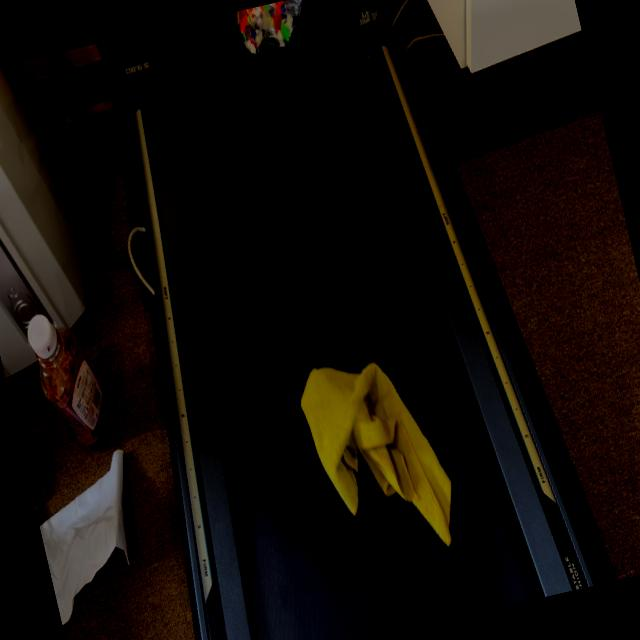Trash: (290, 320, 476, 572), (211, 0, 314, 71)
